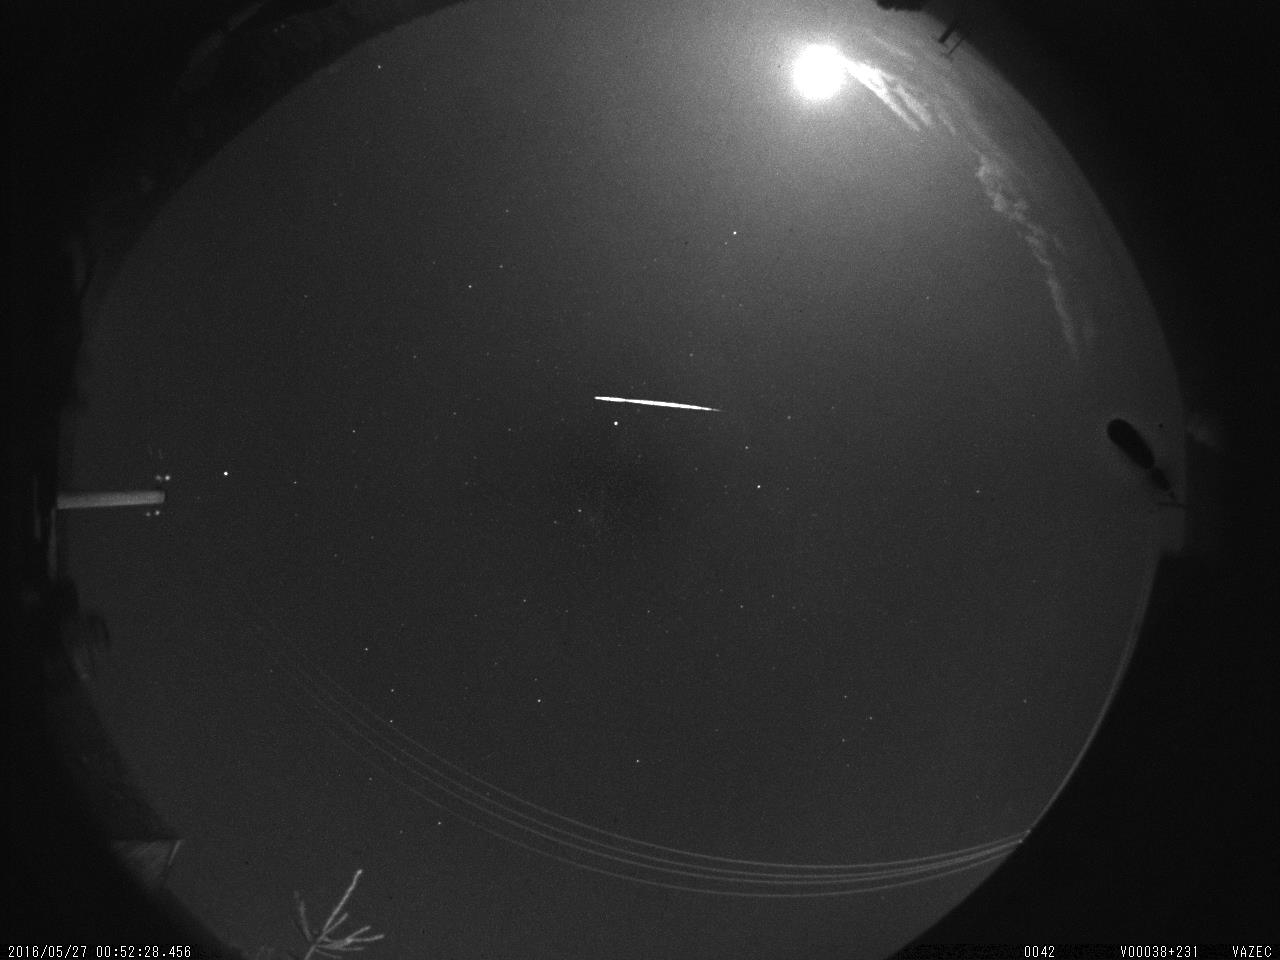meteor: (588, 388, 728, 419)
